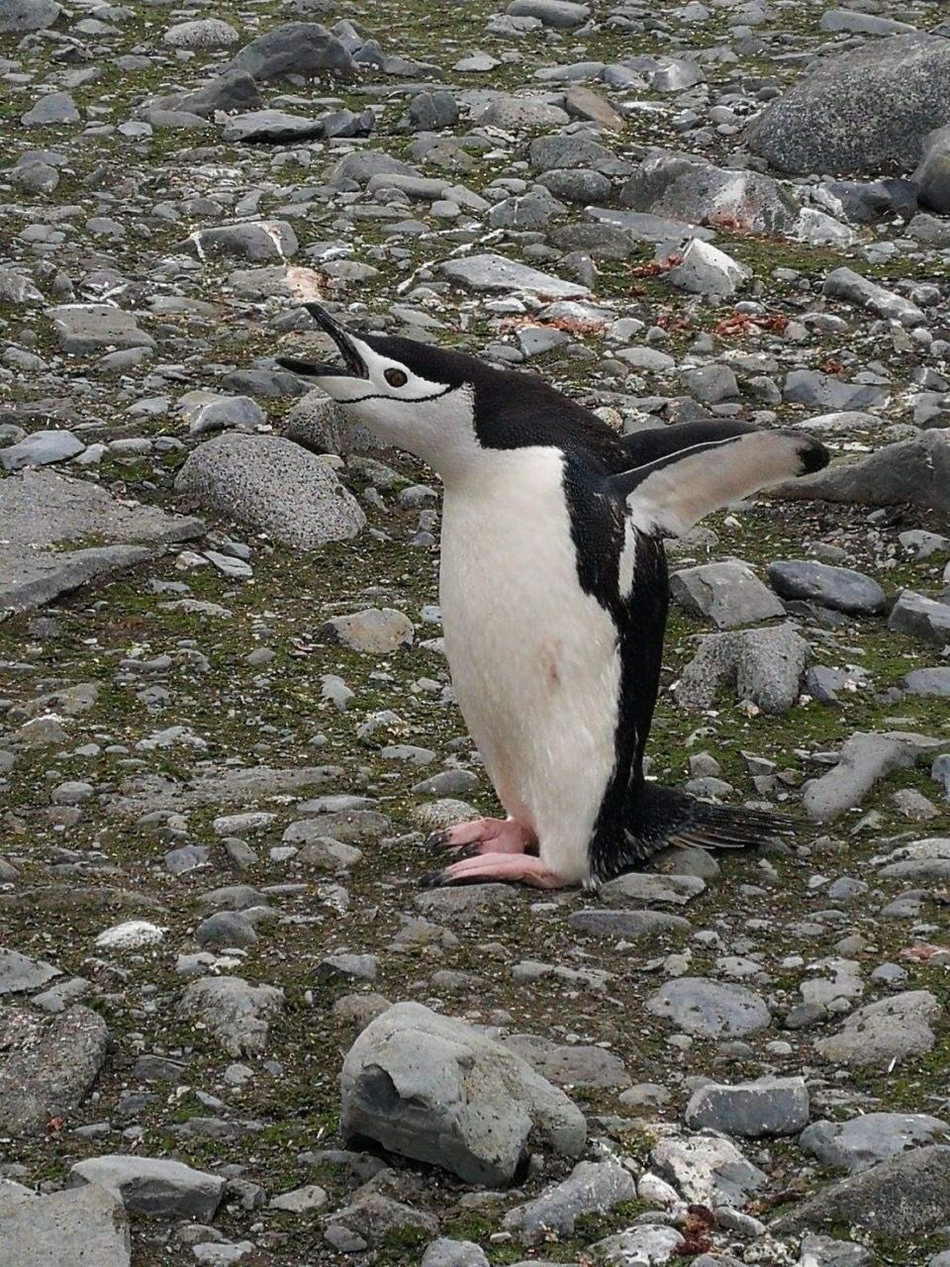Penguin: (282, 305, 828, 889)
